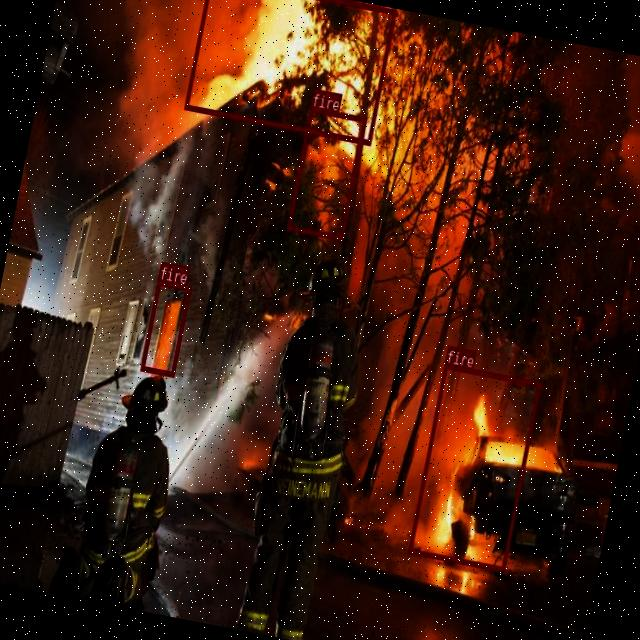fire: (184, 0, 396, 145), (408, 363, 541, 571), (286, 106, 367, 240), (140, 279, 190, 376)
